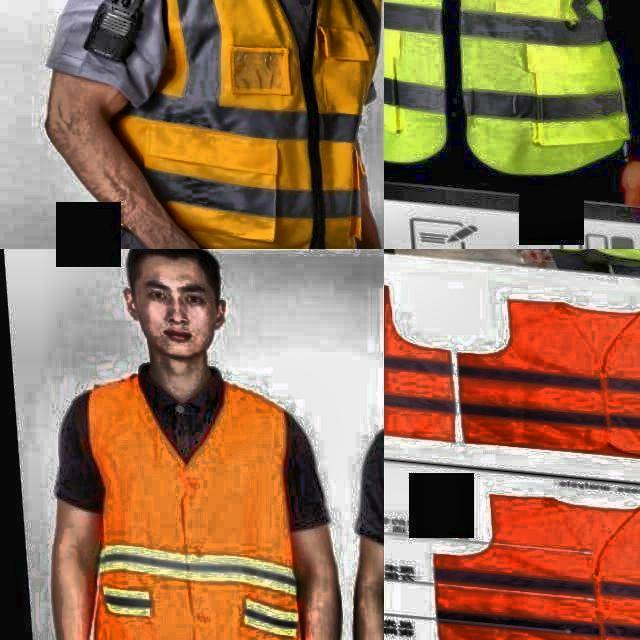safety_jacket: (116, 0, 377, 249), (81, 380, 300, 640), (384, 0, 640, 174)
